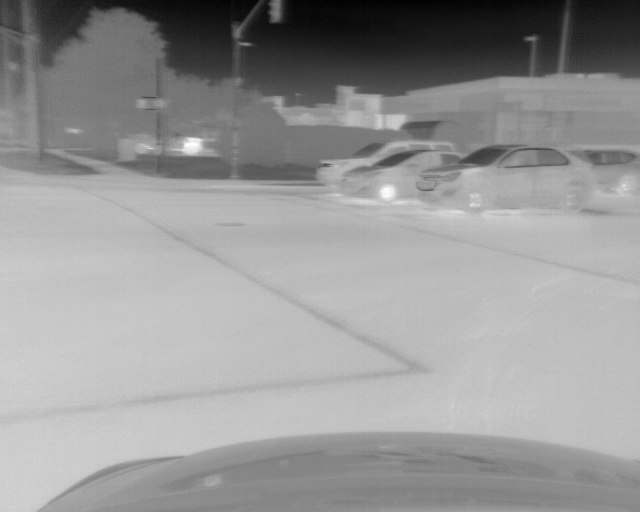car: (419, 144, 595, 216), (317, 138, 455, 191), (340, 149, 466, 199), (585, 147, 635, 191)
